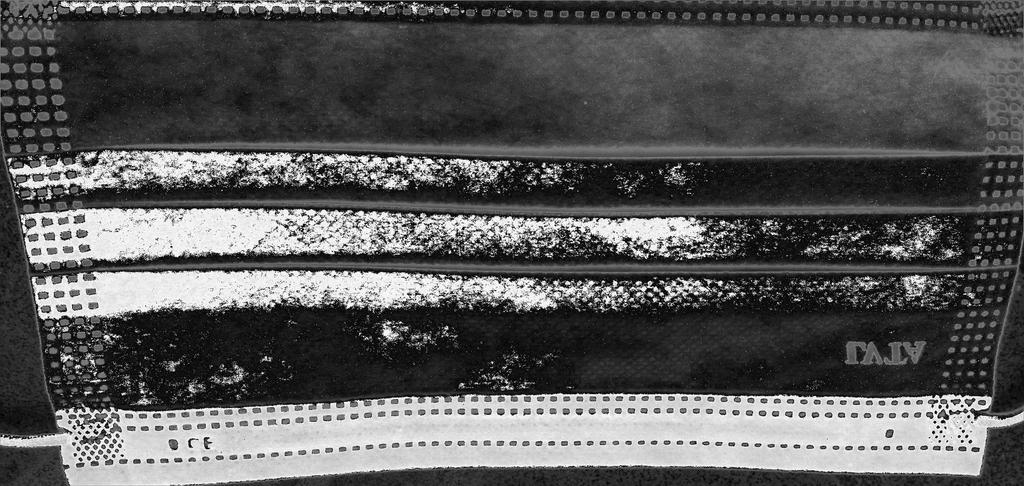High GSM: (54, 15, 987, 413)
